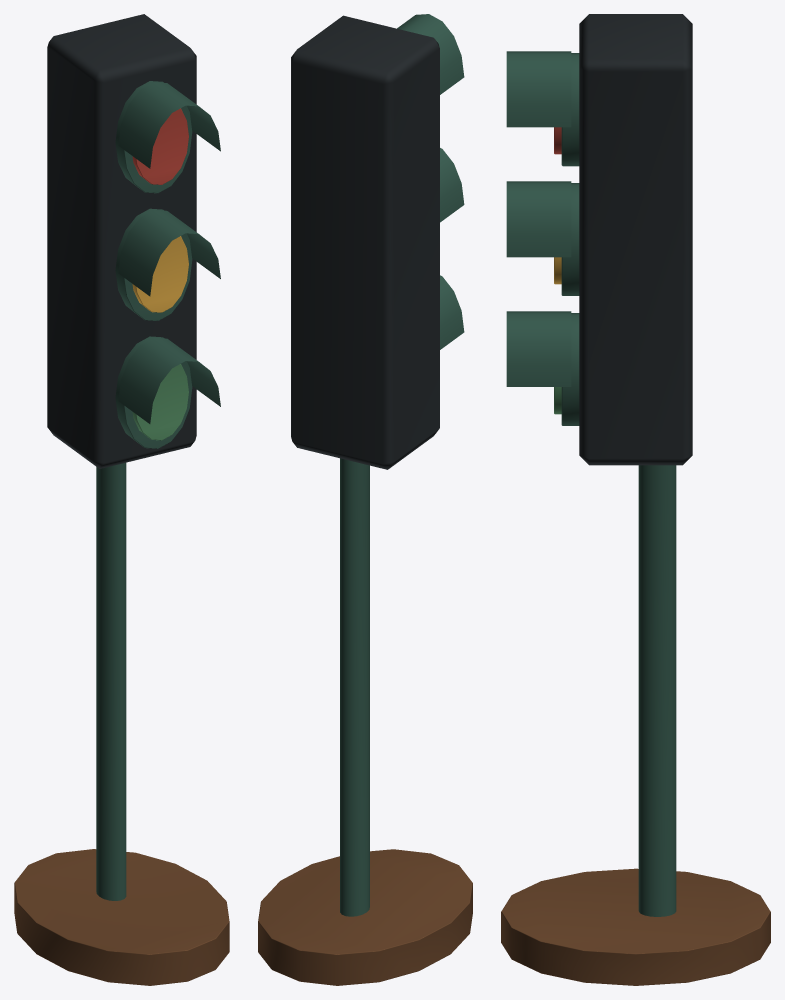
Rendered from S062_traffic_signal_rebuilt.glb.
The picture shows the model from 3 angles, left to right: view 1: azimuth 30°, elevation 25°; view 2: azimuth 150°, elevation 25°; view 3: azimuth 270°, elevation 25°; orthographic projection.
Visible parts, largest first — view 1: Deep_joint_recess.001, Deep_green_outdoor_paint, Oak_end_and_edge.001, Red_signal_lens, Amber_signal_lens, Green_signal_lens; view 2: Deep_joint_recess.001, Oak_end_and_edge.001, Deep_green_outdoor_paint; view 3: Deep_joint_recess.001, Deep_green_outdoor_paint, Oak_end_and_edge.001.
Part boxes in pixels (x1=…): Deep_joint_recess.001: x1=47, y1=14, x2=196, y2=468; Deep_green_outdoor_paint: x1=96, y1=81, x2=220, y2=900; Oak_end_and_edge.001: x1=14, y1=849, x2=229, y2=985; Red_signal_lens: x1=132, y1=108, x2=188, y2=184; Amber_signal_lens: x1=132, y1=236, x2=188, y2=312; Green_signal_lens: x1=132, y1=364, x2=188, y2=440; Deep_joint_recess.001: x1=291, y1=15, x2=439, y2=469; Oak_end_and_edge.001: x1=258, y1=849, x2=472, y2=985; Deep_green_outdoor_paint: x1=340, y1=14, x2=464, y2=916; Deep_joint_recess.001: x1=579, y1=14, x2=692, y2=465; Deep_green_outdoor_paint: x1=506, y1=51, x2=676, y2=916; Oak_end_and_edge.001: x1=501, y1=868, x2=770, y2=985.
Size of the model in its own units: 0.58 by 2.88 by 0.775.
